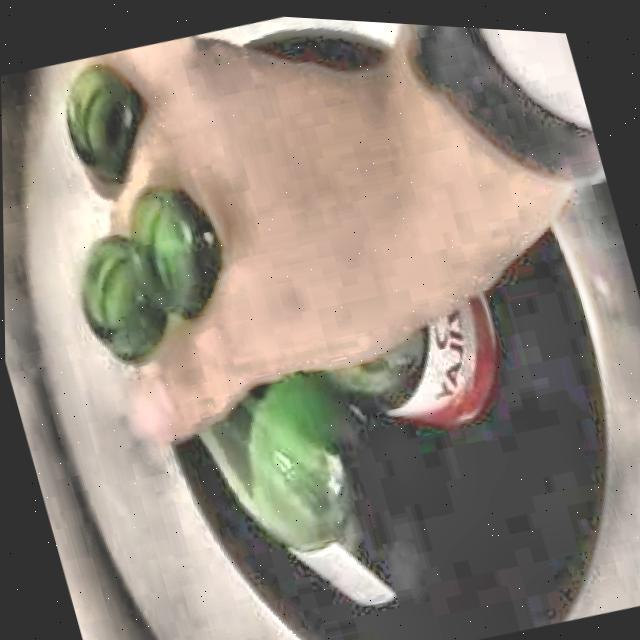glass: (201, 292, 493, 599), (78, 184, 224, 362), (66, 61, 146, 182)
